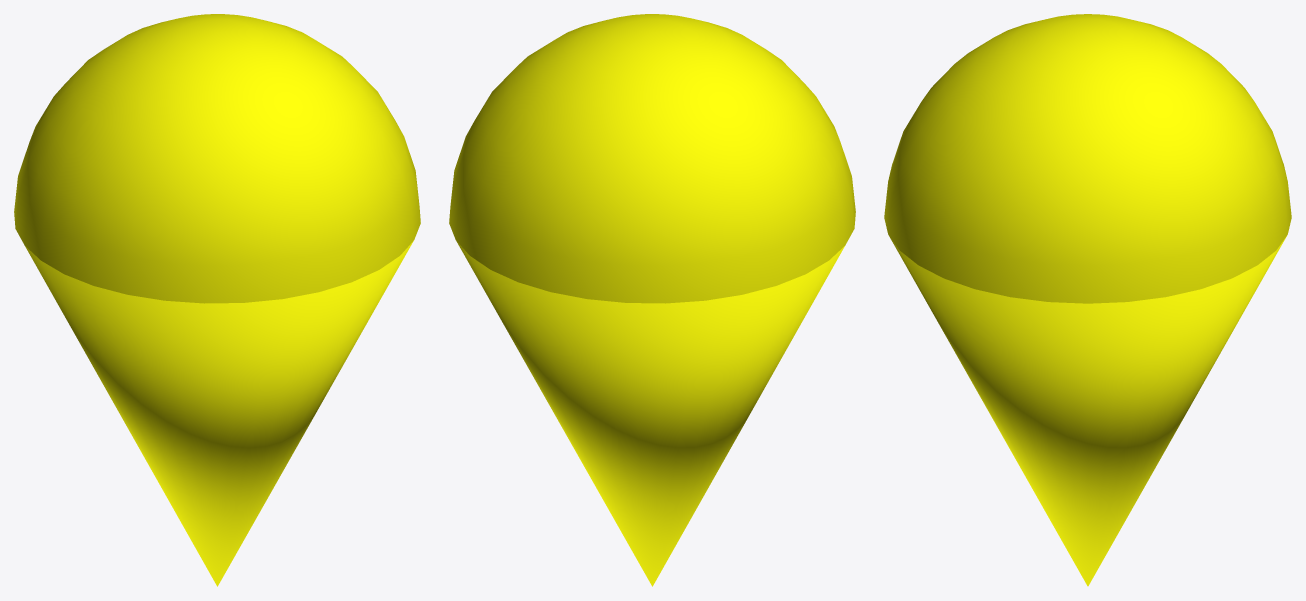
The model's file is pointmarker.obj.
3 views of the same model, side by side, from view 1: azimuth 30°, elevation 25°; view 2: azimuth 150°, elevation 25°; view 3: azimuth 270°, elevation 25° (orthographic).
Visible parts, largest first — view 1: Sphere; view 2: Sphere; view 3: Sphere.
Boxes of the visible parts, x1,y1,x2,y2 form: Sphere: (14,14,420,586); Sphere: (449,14,855,586); Sphere: (884,14,1291,586).
Size of the model in its own units: 0.6 by 0.9 by 0.6.
